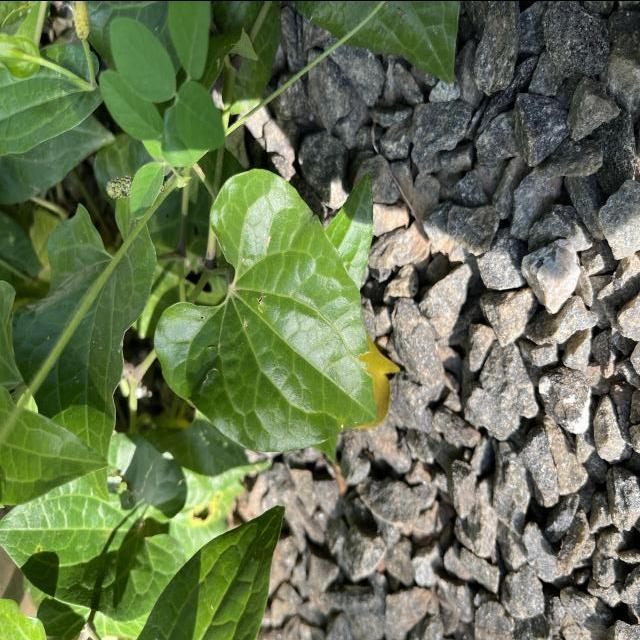Piper longum: (150, 164, 382, 455)
